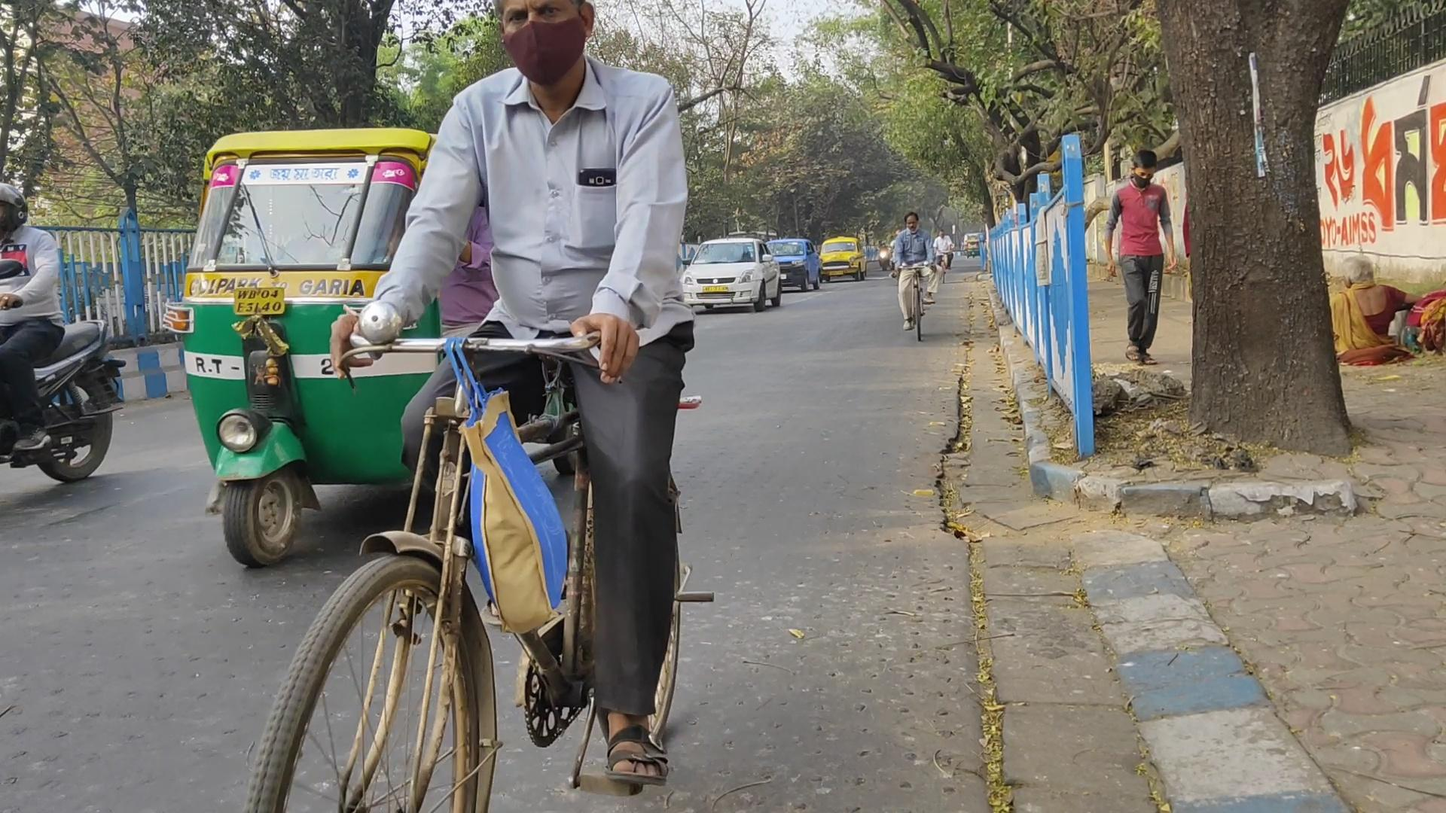Auto: (161, 129, 460, 571)
bike: (245, 2, 712, 813), (1, 181, 127, 497), (893, 212, 941, 340)
car: (683, 239, 784, 314), (768, 237, 824, 293), (817, 236, 868, 282)
